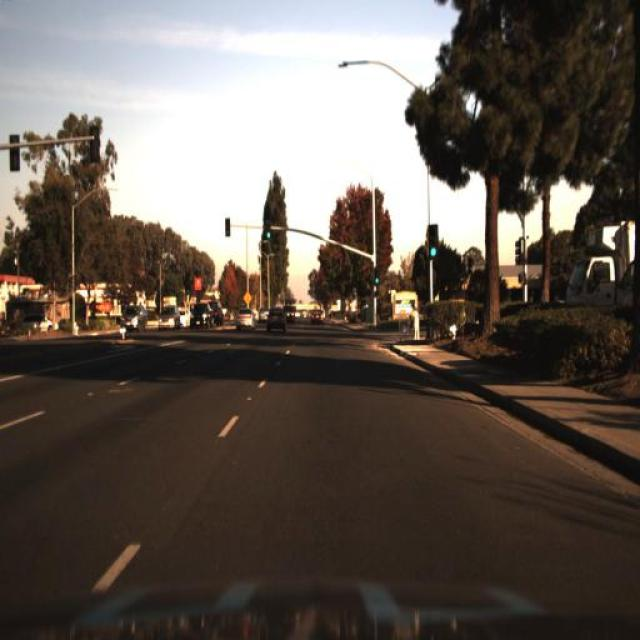car: (156, 297, 186, 332), (262, 302, 290, 338), (188, 297, 214, 335), (182, 296, 210, 330), (231, 302, 258, 336), (21, 314, 61, 336), (114, 303, 144, 332), (307, 300, 327, 330), (276, 300, 296, 328)
trafficLight: (409, 300, 426, 346)
trafficLight-GreenLeft: (426, 219, 440, 262), (426, 224, 440, 260), (262, 218, 273, 246), (372, 262, 382, 288), (263, 217, 272, 244), (372, 266, 382, 286)
trafficLight-Red: (223, 213, 233, 244), (222, 213, 232, 243)
